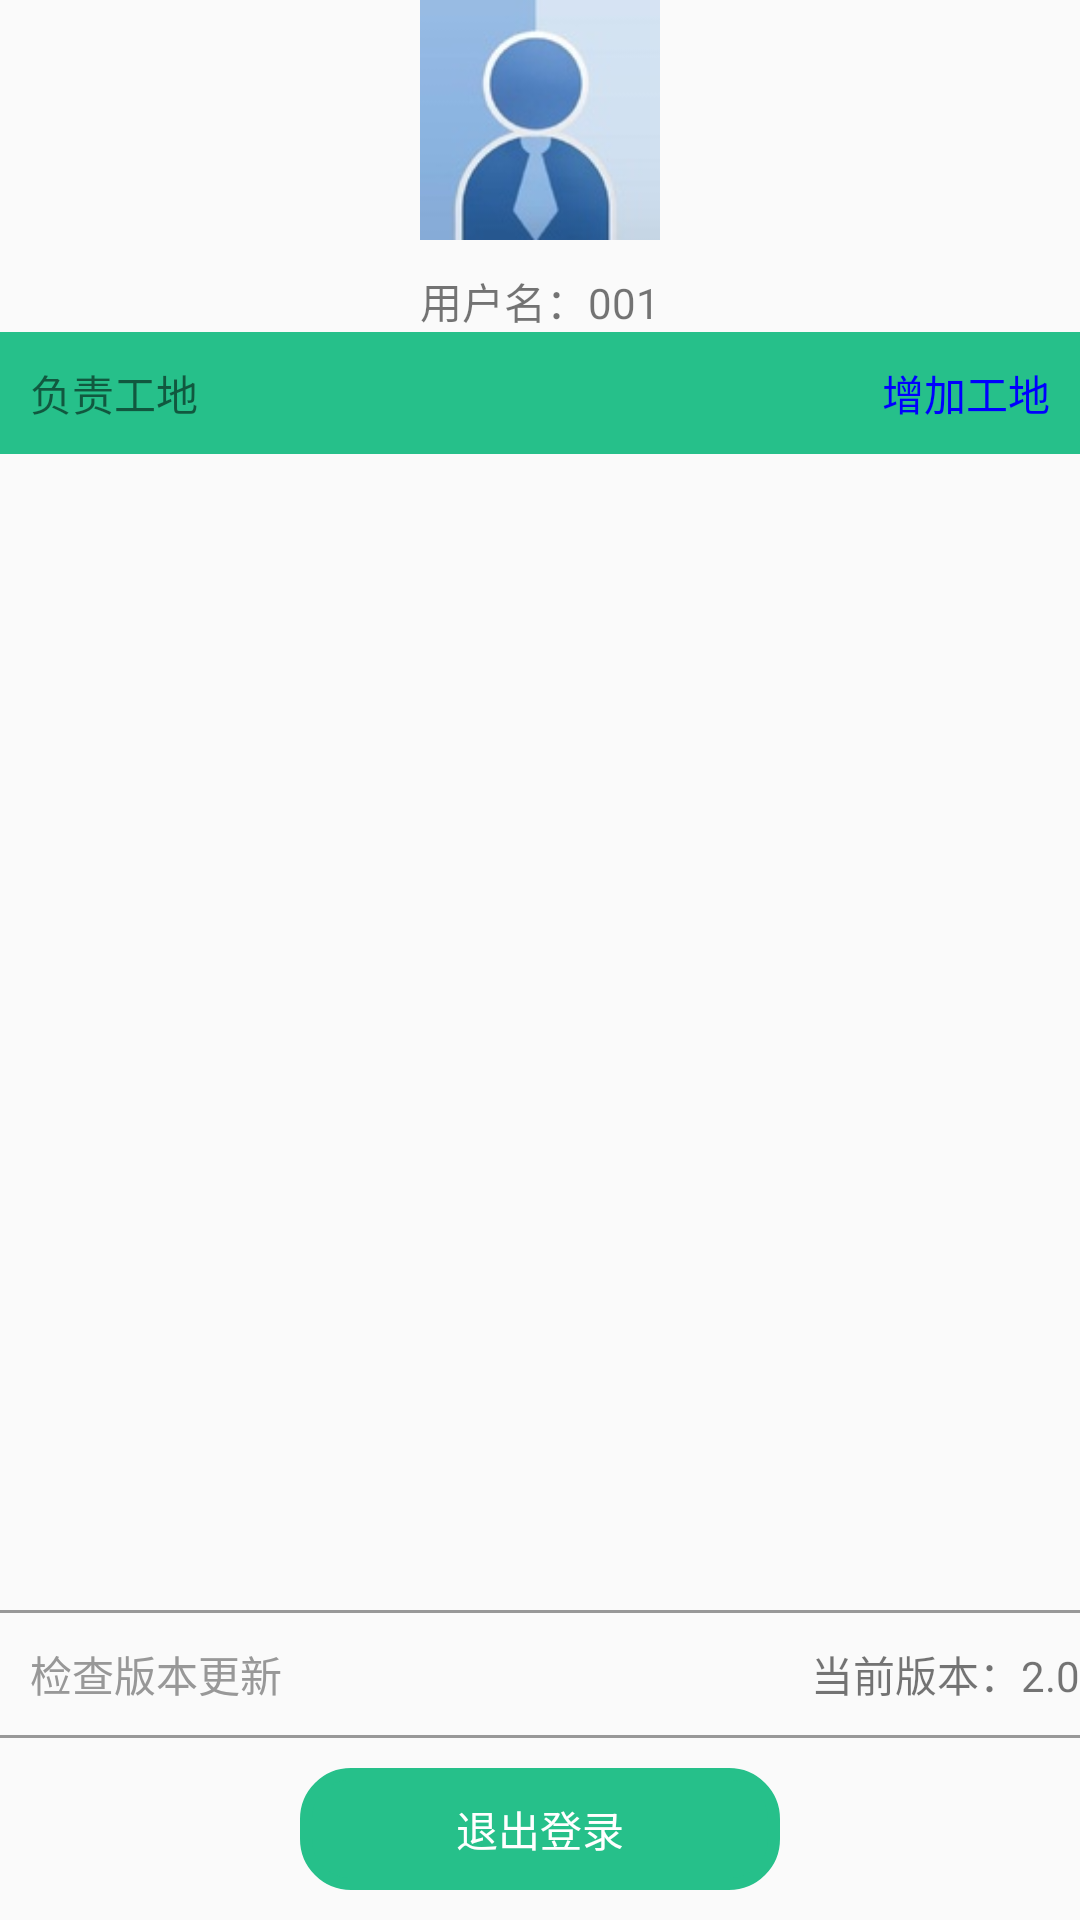

Point at icon controls on the screen. Image size 1080px×1920px, points as (x=x, y=y).
person: (x=540, y=120)
